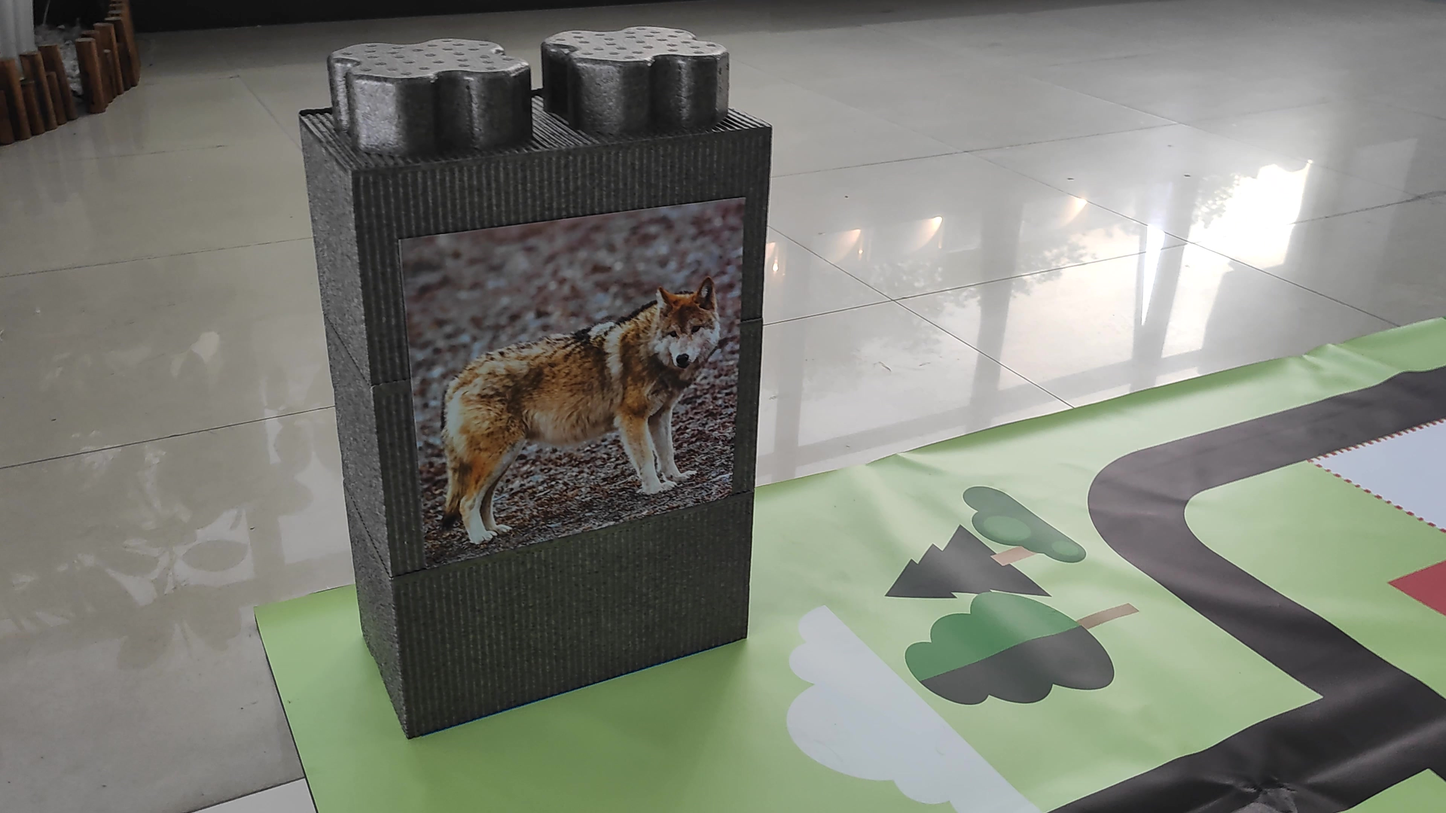wolf: (416, 266, 726, 566)
